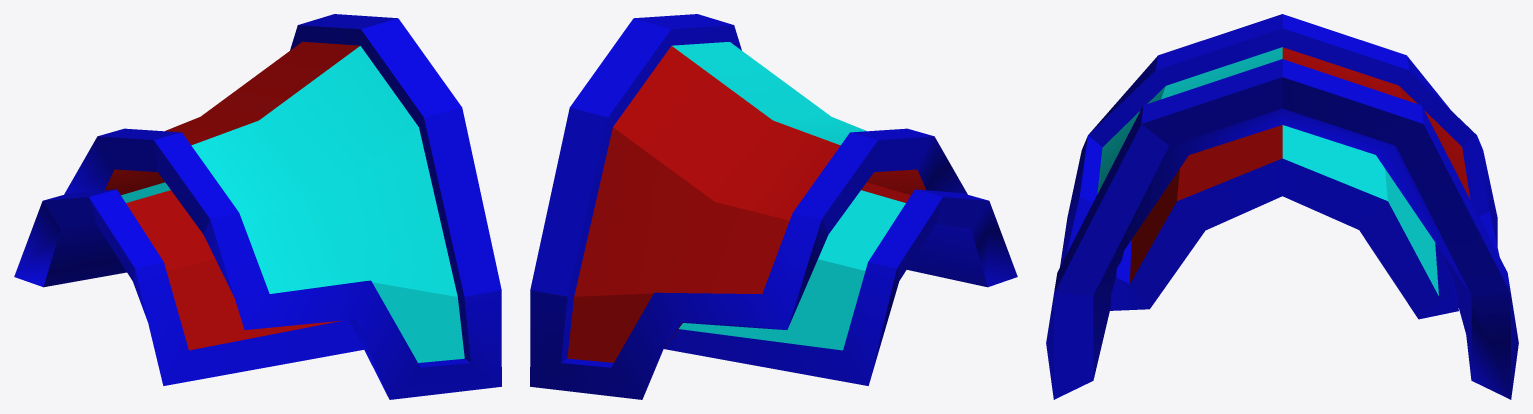
Rendered from Chr_ShoulderAttachRight_Static_19.fbx.
3 renders of one model, left to right at view 1: azimuth 30°, elevation 25°; view 2: azimuth 150°, elevation 25°; view 3: azimuth 270°, elevation 25°, orthographic. The views are drawn at different scales.
Visible parts, largest first — view 1: Chr_ShoulderAttachRight_19; view 2: Chr_ShoulderAttachRight_19; view 3: Chr_ShoulderAttachRight_19.
Part boxes in pixels (x1,y1,x2,y2): Chr_ShoulderAttachRight_19: (14, 14, 501, 399); Chr_ShoulderAttachRight_19: (530, 14, 1017, 399); Chr_ShoulderAttachRight_19: (1046, 14, 1518, 399).
Size of the model in its own units: 29.55 by 26.7 by 35.41.
